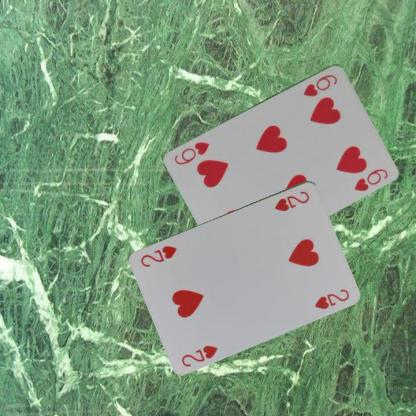2h: (179, 342, 220, 368), (272, 188, 311, 212)
6h: (300, 72, 338, 98)
